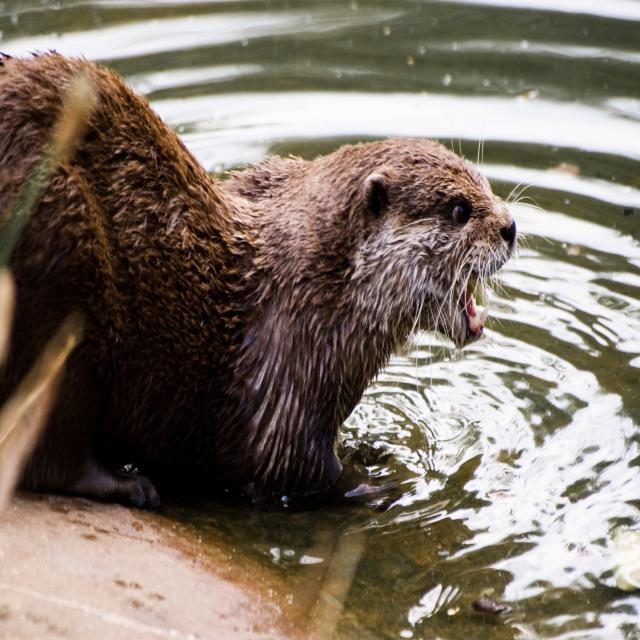otter: (1, 51, 520, 495)
